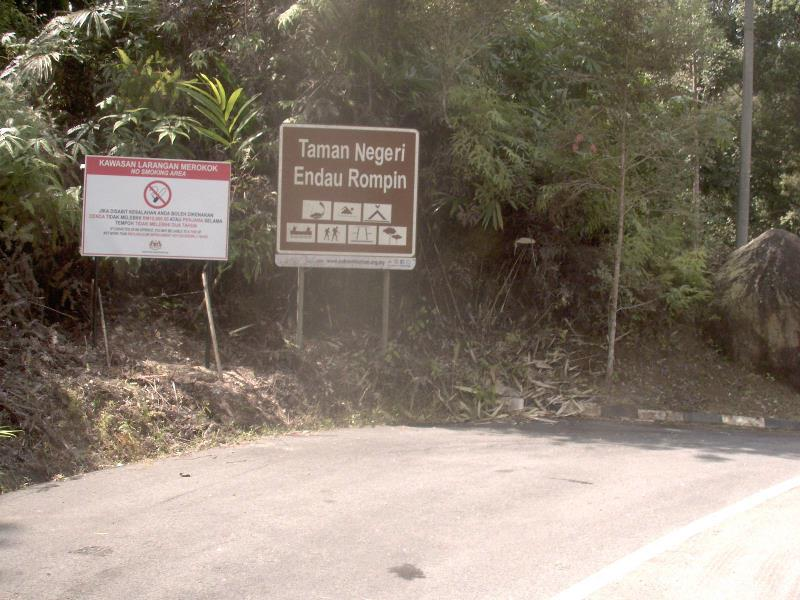ads_sign: (264, 112, 430, 282), (71, 141, 236, 272)
